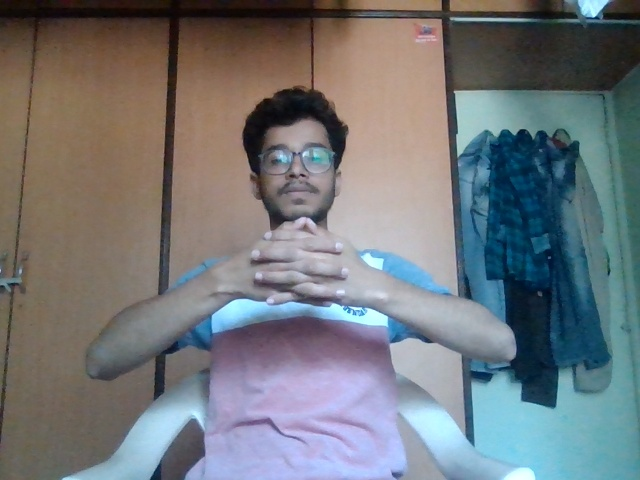good: (229, 199, 378, 332)
